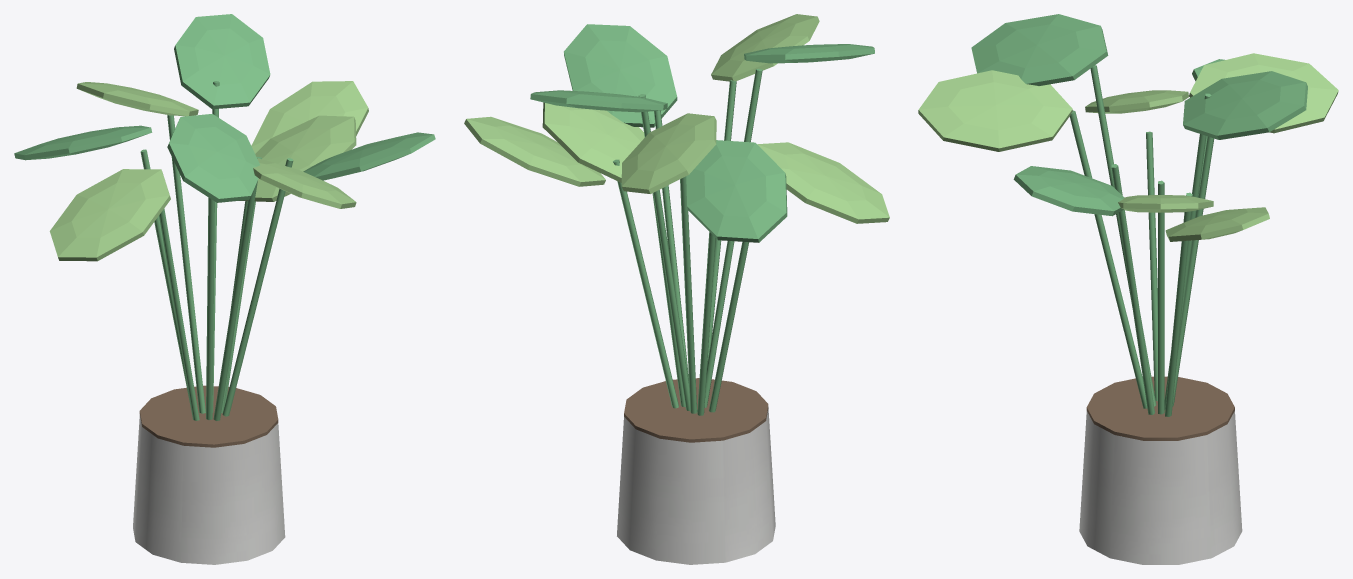
The picture shows the model from 3 angles, left to right: view 1: azimuth 30°, elevation 25°; view 2: azimuth 150°, elevation 25°; view 3: azimuth 270°, elevation 25°; orthographic projection. The views are drawn at different scales.
Visible parts, largest first — view 1: Decor_monstera; view 2: Decor_monstera; view 3: Decor_monstera.
Boxes of the visible parts, x1,y1,x2,y2 form: Decor_monstera: [14, 14, 435, 564]; Decor_monstera: [464, 14, 889, 564]; Decor_monstera: [918, 14, 1338, 564].
Bounding box in the file's own units: 1.16 × 1.42 × 1.14.
4 materials, 1 textured.
